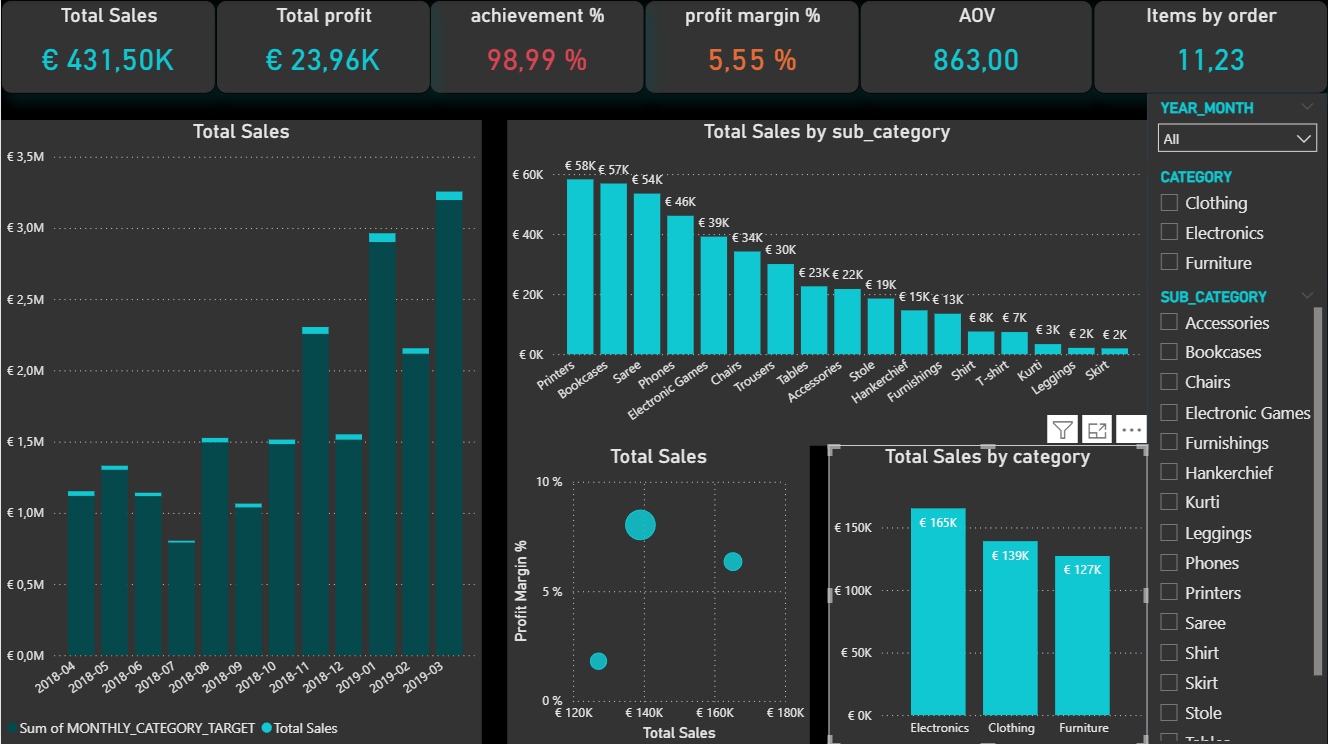

Layout of this report page (visuals, bound fields, positions):
{"tool":"powerbi","page":{"name":"Page 1","canvas":[1280,720],"ordinal":0},"visuals":[{"type":"card","title":"Total Sales","fields":{"Values":["SALES_PERFORMANCE_VIEW.Total Sales"]},"box":[0,0,207.2,90.6],"z":0},{"type":"card","title":"profit margin %","fields":{"Values":["SALES_PERFORMANCE_VIEW.Profit Margin %"]},"box":[621.6,0,207.2,90.6],"z":1000},{"type":"card","title":"achievement %","fields":{"Values":["SALES_PERFORMANCE_VIEW.Achievement %"]},"box":[414.4,0,207.2,90.6],"z":2000},{"type":"card","title":"Total profit","fields":{"Values":["Sum(SALES_PERFORMANCE_VIEW.PROFIT)"]},"box":[207.2,0,207.2,90.6],"z":3000},{"type":"card","title":"AOV","fields":{"Values":["SALES_PERFORMANCE_VIEW.AOV"]},"box":[828.8,0,225,90.6],"z":4000},{"type":"card","title":"Items by order","fields":{"Values":["SALES_PERFORMANCE_VIEW.Items by order"]},"box":[1053.9,0,226.4,90.6],"z":5000},{"type":"columnChart","title":"Total Sales","fields":{"Category":["SALES_PERFORMANCE_VIEW.YEAR_MONTH"],"Y":["Sum(SALES_PERFORMANCE_VIEW.MONTHLY_CATEGORY_TARGET)","SALES_PERFORMANCE_VIEW.Total Sales"]},"box":[0,115.3,463.8,605.1],"z":6000},{"type":"scatterChart","title":"Total Sales","fields":{"X":["SALES_PERFORMANCE_VIEW.Total Sales"],"Y":["SALES_PERFORMANCE_VIEW.Profit Margin %"],"Size":["Sum(SALES_PERFORMANCE_VIEW.QUANTITY)"],"Category":["SALES_PERFORMANCE_VIEW.CATEGORY"]},"box":[488.5,429.5,292.3,290.9],"z":7000},{"type":"columnChart","title":"Total Sales by category","fields":{"Y":["SALES_PERFORMANCE_VIEW.Total Sales"],"Category":["SALES_PERFORMANCE_VIEW.CATEGORY"]},"box":[798.6,429.5,307.4,290.9],"z":8000},{"type":"columnChart","title":"Total Sales by sub_category","fields":{"Y":["SALES_PERFORMANCE_VIEW.Total Sales"],"Category":["SALES_PERFORMANCE_VIEW.SUB_CATEGORY"]},"box":[488.5,115.3,617.5,314.2],"z":9000},{"type":"shape","box":[1106.3,90.5,173.7,629.8],"z":10000},{"type":"slicer","fields":{"Values":["SALES_PERFORMANCE_VIEW.YEAR_MONTH"]},"box":[1106.3,90.5,173.7,74.8],"z":11000},{"type":"slicer","fields":{"Values":["SALES_PERFORMANCE_VIEW.CATEGORY"]},"box":[1106.3,156.8,173.7,115.8],"z":12000},{"type":"slicer","fields":{"Values":["SALES_PERFORMANCE_VIEW.SUB_CATEGORY"]},"box":[1106.3,272.7,173.7,447.6],"z":13000}]}

Visuals, with their boxes in screenshot pixels (x1, y1, x2, y2), scaled from the page's 1280x720 canvas onto the 1328x744 screenshot:
"Total Sales" card: x1=0, y1=0, x2=215, y2=94
"profit margin %" card: x1=645, y1=0, x2=860, y2=94
"achievement %" card: x1=430, y1=0, x2=645, y2=94
"Total profit" card: x1=215, y1=0, x2=430, y2=94
"AOV" card: x1=860, y1=0, x2=1093, y2=94
"Items by order" card: x1=1093, y1=0, x2=1327, y2=94
"Total Sales" columnChart: x1=0, y1=119, x2=481, y2=743
"Total Sales" scatterChart: x1=507, y1=444, x2=810, y2=743
"Total Sales by category" columnChart: x1=829, y1=444, x2=1147, y2=743
"Total Sales by sub_category" columnChart: x1=507, y1=119, x2=1147, y2=444
shape: x1=1148, y1=94, x2=1327, y2=743
slicer - SALES_PERFORMANCE_VIEW.YEAR_MONTH: x1=1148, y1=94, x2=1327, y2=171
slicer - SALES_PERFORMANCE_VIEW.CATEGORY: x1=1148, y1=162, x2=1327, y2=282
slicer - SALES_PERFORMANCE_VIEW.SUB_CATEGORY: x1=1148, y1=282, x2=1327, y2=743
